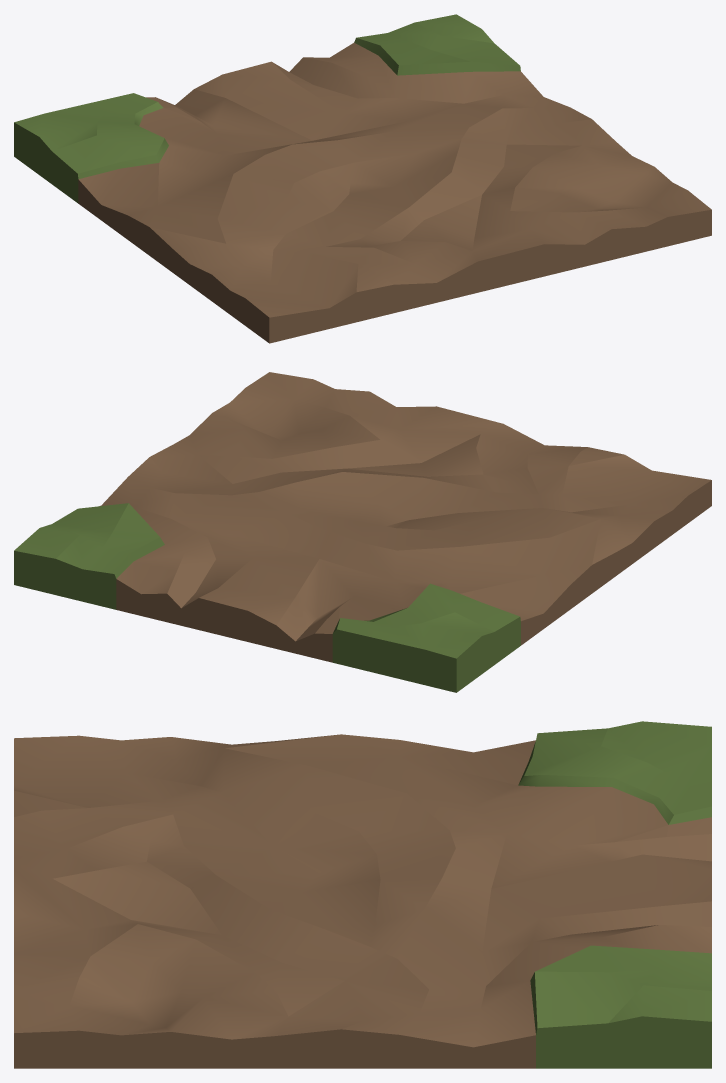
The model's file is Ground_Road_Entrance_U.glb.
3 views of the same model, one above another, from view 1: azimuth 30°, elevation 25°; view 2: azimuth 150°, elevation 25°; view 3: azimuth 270°, elevation 25° (orthographic). The views are drawn at different scales.
Visible parts, largest first — view 1: Ground_Road_Entrance_U; view 2: Ground_Road_Entrance_U; view 3: Ground_Road_Entrance_U.
Part boxes in pixels (bbox=[...]): Ground_Road_Entrance_U: bbox=[14, 14, 711, 343]; Ground_Road_Entrance_U: bbox=[14, 372, 711, 692]; Ground_Road_Entrance_U: bbox=[14, 721, 711, 1068].
Bounding box in the file's own units: 1.47 × 0.1477 × 1.47.
